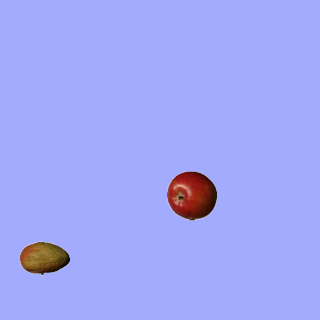Apple Braeburn: (166, 170, 216, 220)
Papaya: (19, 233, 69, 283)
